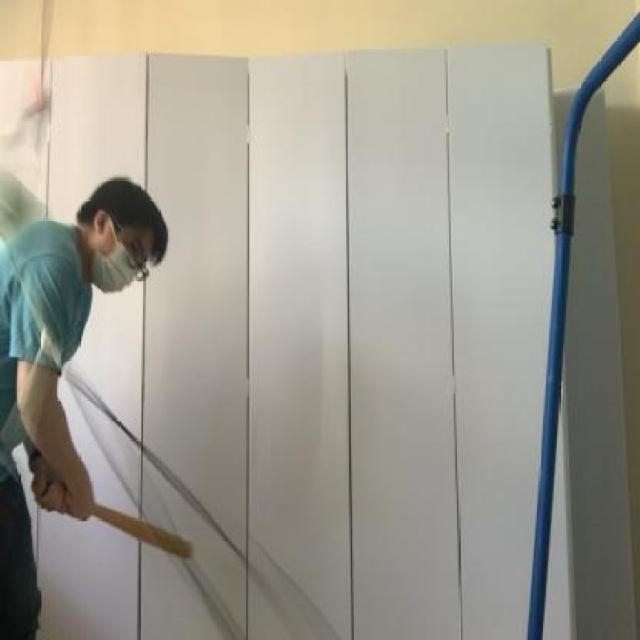baseball: (0, 158, 48, 251)
